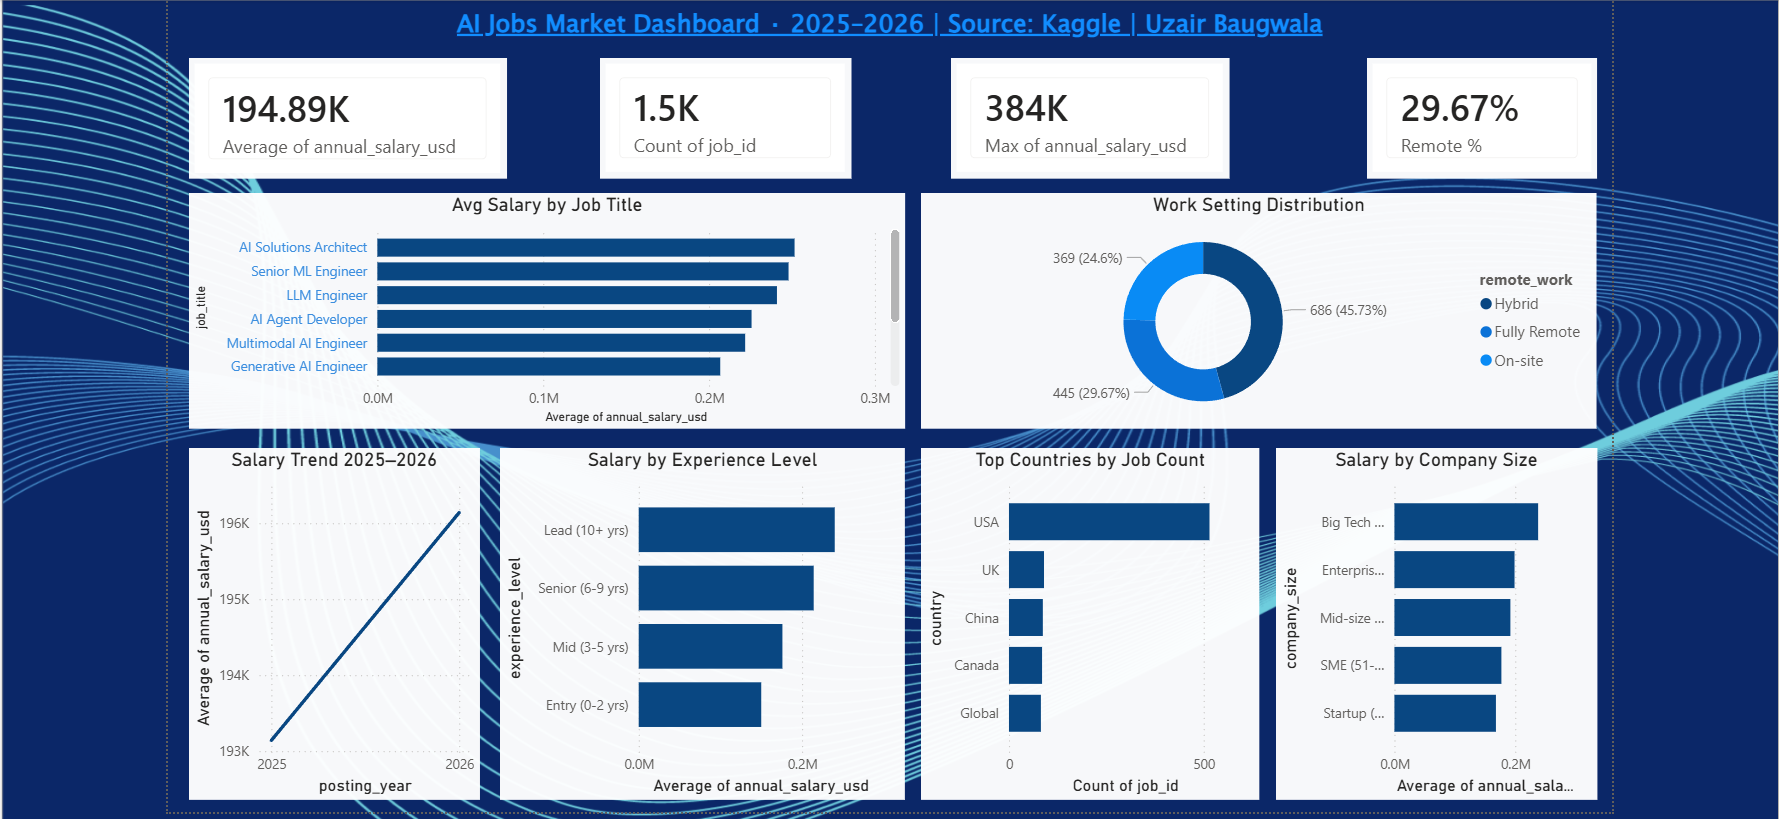

Layout of this report page (visuals, bound fields, positions):
{"tool":"powerbi","page":{"name":"Page 1","canvas":[1280,720],"ordinal":0},"visuals":[{"type":"cardVisual","fields":{"Data":["Avg(ai_jobs_market_2025_2026.annual_salary_usd)"]},"box":[18.4,51.3,281.8,107.5],"z":0},{"type":"cardVisual","fields":{"Data":["CountNonNull(ai_jobs_market_2025_2026.job_id)"]},"box":[383.4,51.3,222.7,106.5],"z":1000},{"type":"cardVisual","fields":{"Data":["ai_jobs_market_2025_2026.Remote %"]},"box":[1063.1,51.3,204.3,106.5],"z":2000},{"type":"cardVisual","fields":{"Data":["Max(ai_jobs_market_2025_2026.annual_salary_usd)"]},"box":[694.2,51.3,246.9,106.5],"z":3000},{"type":"clusteredBarChart","title":"Avg Salary by Job Title","fields":{"Category":["ai_jobs_market_2025_2026.job_title"],"Y":["Avg(ai_jobs_market_2025_2026.annual_salary_usd)"]},"box":[18.4,171.4,635.2,209.1],"z":4000},{"type":"donutChart","title":"Work Setting Distribution","fields":{"Category":["ai_jobs_market_2025_2026.remote_work"],"Y":["CountNonNull(ai_jobs_market_2025_2026.job_id)"]},"box":[668.1,171.4,599.3,209.1],"z":5000},{"type":"clusteredBarChart","title":"Salary by Experience Level","fields":{"Category":["ai_jobs_market_2025_2026.experience_level"],"Y":["Avg(ai_jobs_market_2025_2026.annual_salary_usd)"]},"box":[294.3,397,359.2,311.8],"z":6000},{"type":"lineChart","title":"Salary Trend 2025–2026","fields":{"Category":["ai_jobs_market_2025_2026.posting_year"],"Y":["Avg(ai_jobs_market_2025_2026.annual_salary_usd)"]},"box":[18.4,397,257.5,311.8],"z":7000},{"type":"clusteredBarChart","title":"Top Countries by Job Count","fields":{"Category":["ai_jobs_market_2025_2026.country"],"Y":["CountNonNull(ai_jobs_market_2025_2026.job_id)"]},"box":[668.1,397,300.2,311.8],"z":8000},{"type":"clusteredBarChart","title":"Salary by Company Size","fields":{"Category":["ai_jobs_market_2025_2026.company_size"],"Y":["Avg(ai_jobs_market_2025_2026.annual_salary_usd)"]},"box":[982.8,397,284.7,311.8],"z":9000},{"type":"textbox","box":[0,0,1280,51.3],"z":10000}]}

Visuals, with their boxes in screenshot pixels (x1, y1, x2, y2):
cardVisual - Avg(ai_jobs_market_2025_2026.annual_salary_usd): region(187, 58, 504, 178)
cardVisual - CountNonNull(ai_jobs_market_2025_2026.job_id): region(597, 58, 848, 177)
cardVisual - ai_jobs_market_2025_2026.Remote %: region(1361, 58, 1590, 177)
cardVisual - Max(ai_jobs_market_2025_2026.annual_salary_usd): region(946, 58, 1224, 177)
"Avg Salary by Job Title" clusteredBarChart: region(187, 193, 901, 427)
"Work Setting Distribution" donutChart: region(917, 193, 1590, 427)
"Salary by Experience Level" clusteredBarChart: region(497, 446, 901, 796)
"Salary Trend 2025–2026" lineChart: region(187, 446, 477, 796)
"Top Countries by Job Count" clusteredBarChart: region(917, 446, 1254, 796)
"Salary by Company Size" clusteredBarChart: region(1271, 446, 1590, 796)
textbox: region(167, 0, 1604, 58)
